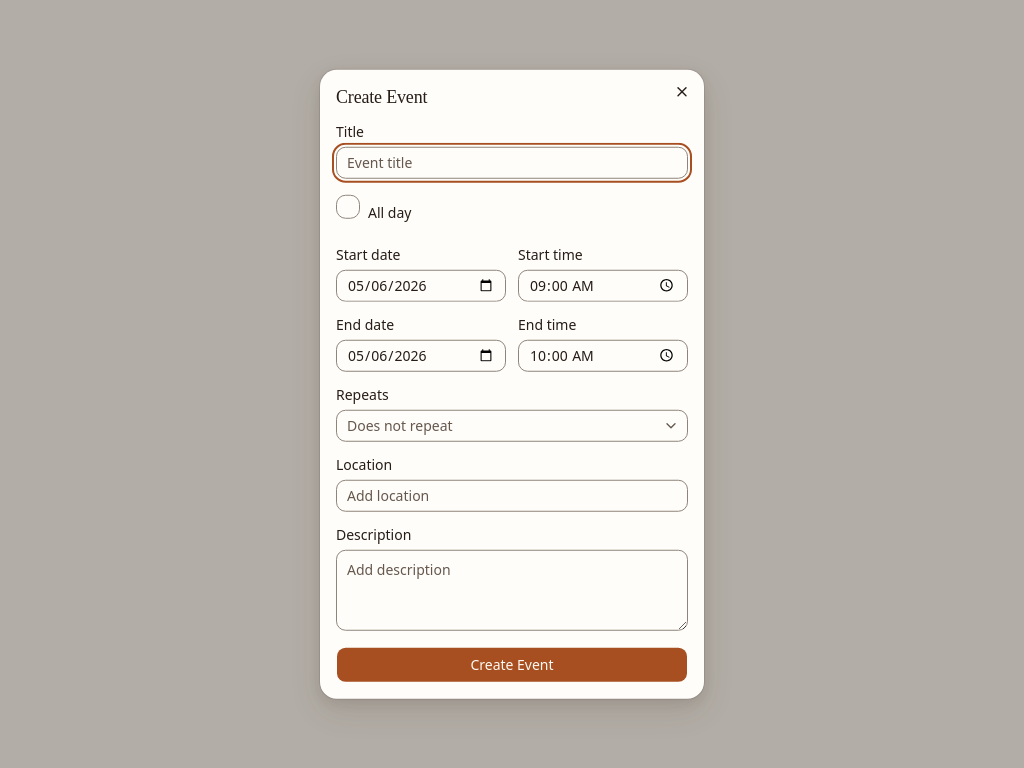
Test: EventFormDialog — Ends control › shows the Ends control and seeds end date to start + 1y when a recurring preset is chosen
Step 1. Click the dropdown named "Repeats" → coordinates (400, 425), box [336,409,688,441]
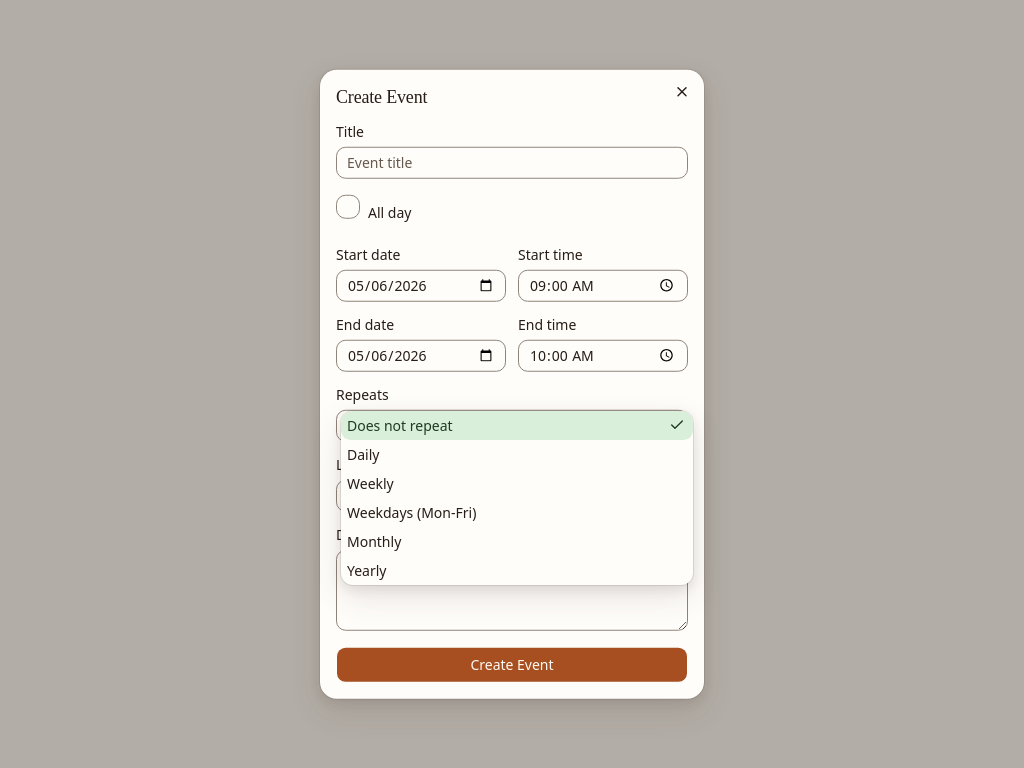
Step 2. Click the option "Weekly" → coordinates (370, 483), box [347,474,394,493]
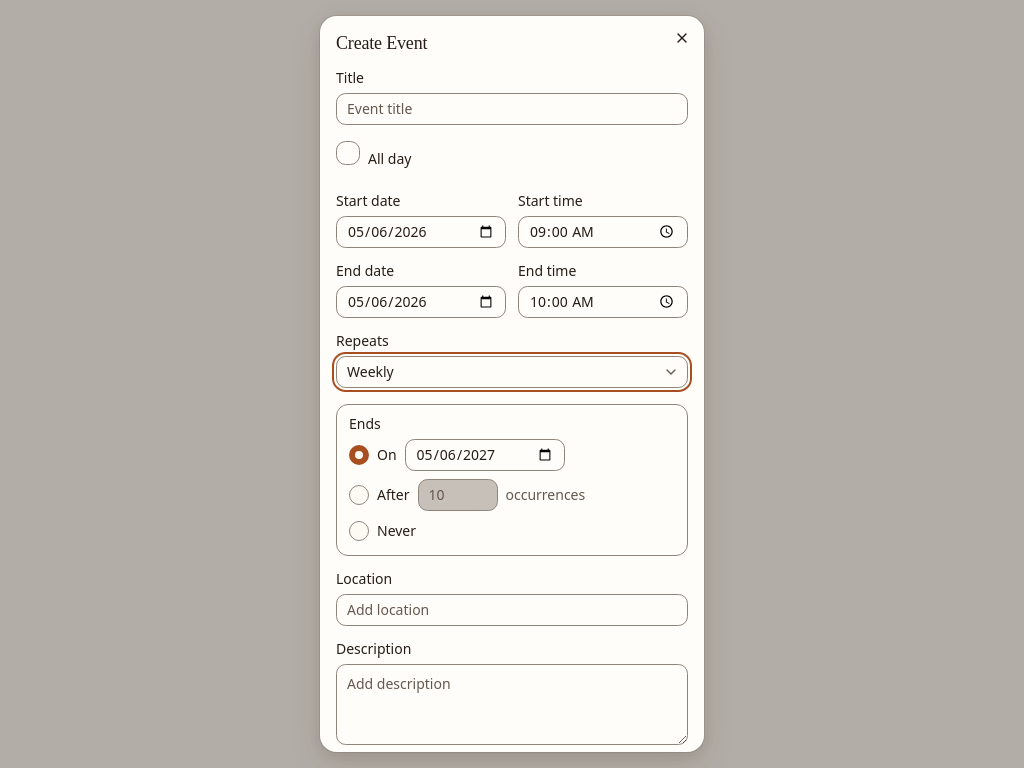
expect the date field named "End date" holds "2027-05-06": met, box [405,438,565,470]
